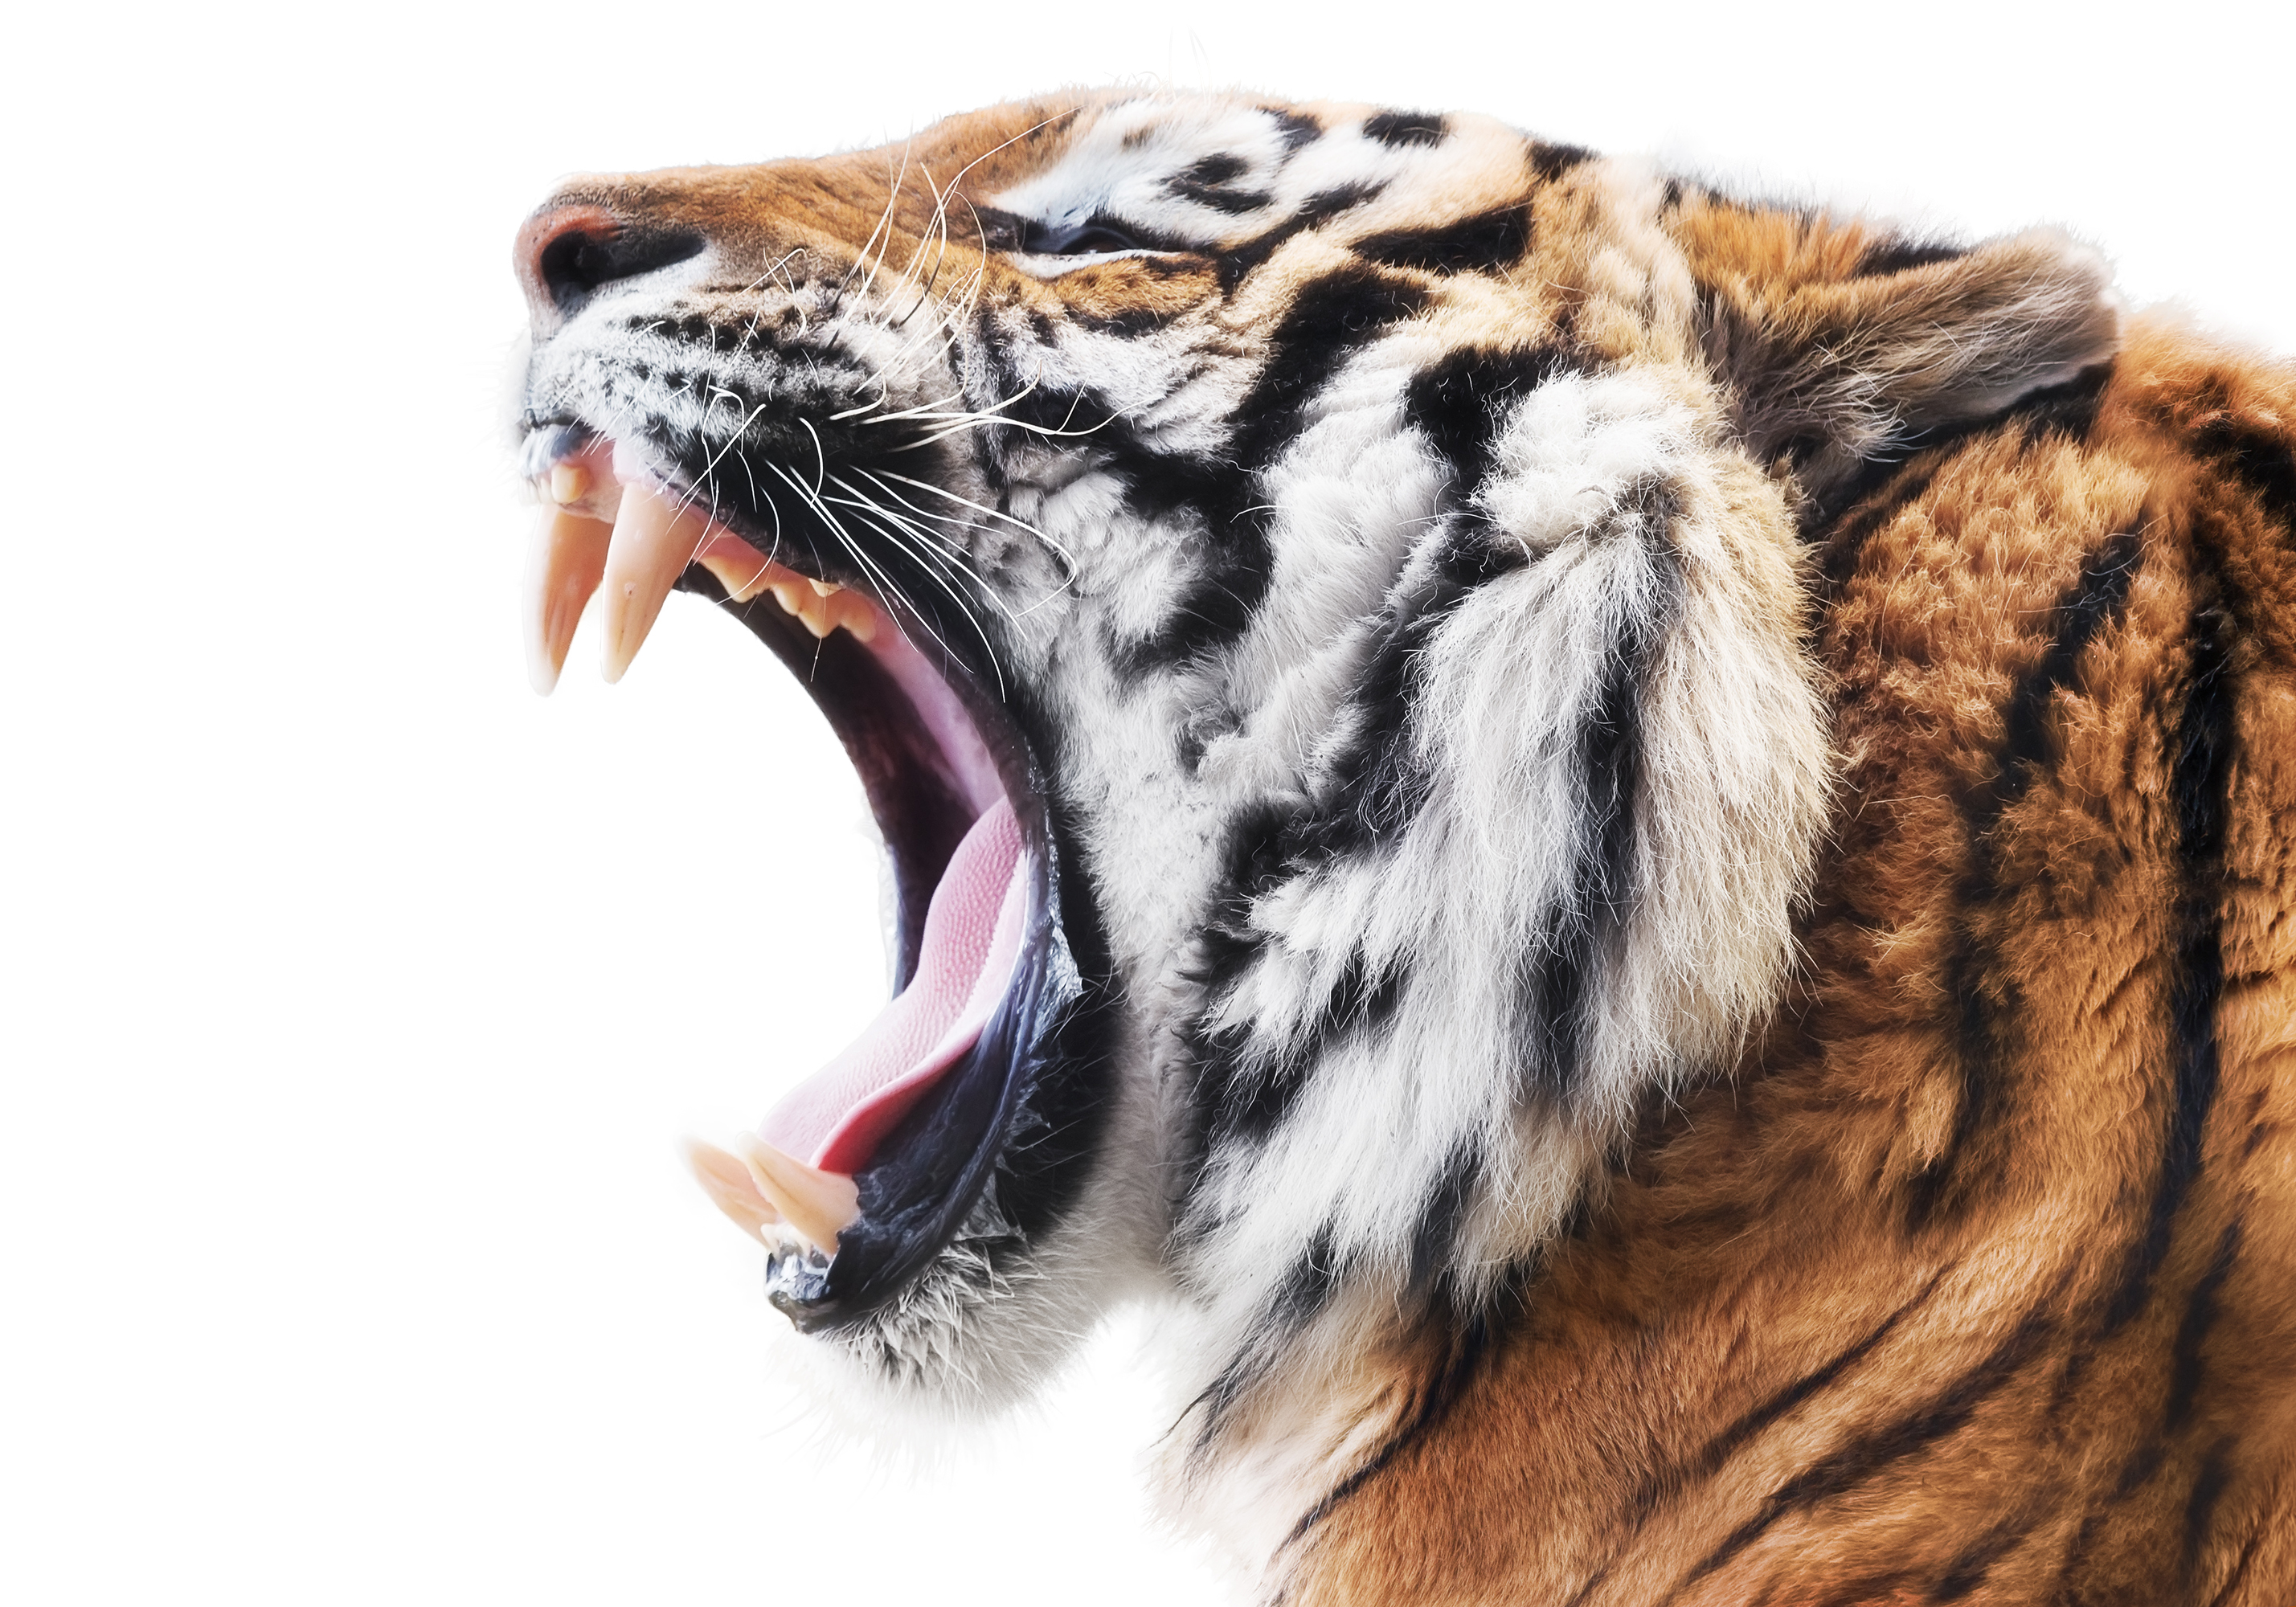tiger: (368, 28, 2296, 1607)
